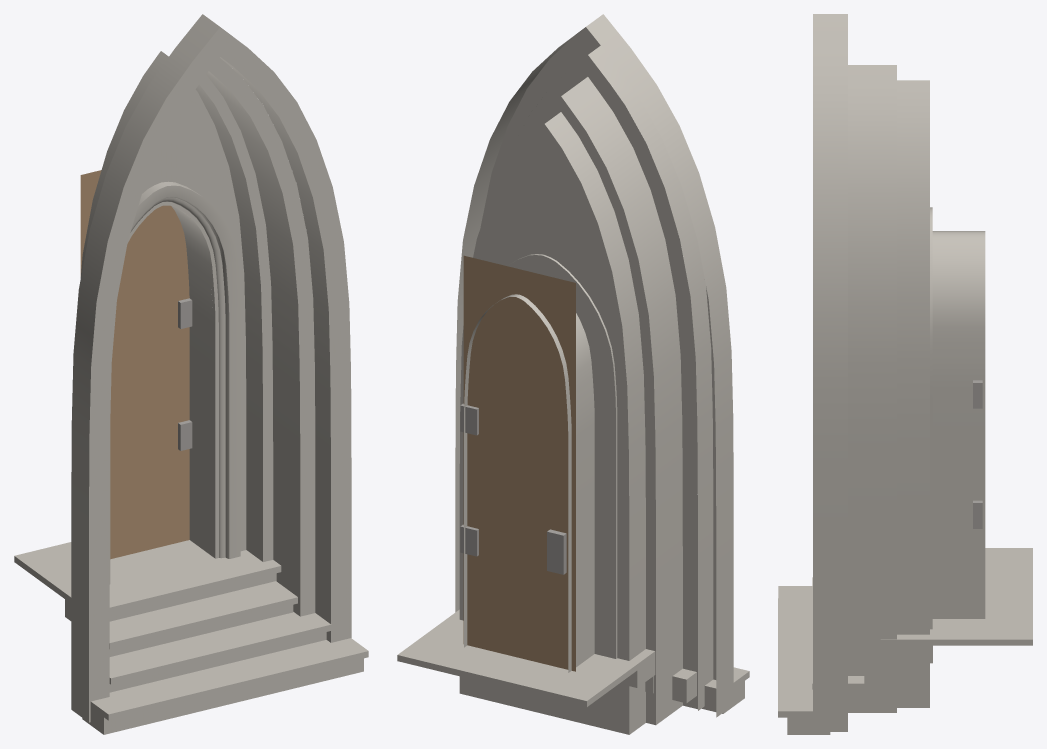
File: kb3d_door_e.glb
The picture shows the model from 3 angles, left to right: view 1: azimuth 30°, elevation 25°; view 2: azimuth 150°, elevation 25°; view 3: azimuth 270°, elevation 25°; orthographic projection.
Visible parts, largest first — view 1: EXPORT_kb3d_door_e; view 2: EXPORT_kb3d_door_e; view 3: EXPORT_kb3d_door_e.
Boxes of the visible parts, x1,y1,x2,y2 form: EXPORT_kb3d_door_e: (14, 14, 368, 734); EXPORT_kb3d_door_e: (397, 14, 749, 734); EXPORT_kb3d_door_e: (778, 14, 1032, 734).
Bounding box in the file's own units: 1.92 × 4.67 × 1.64.
